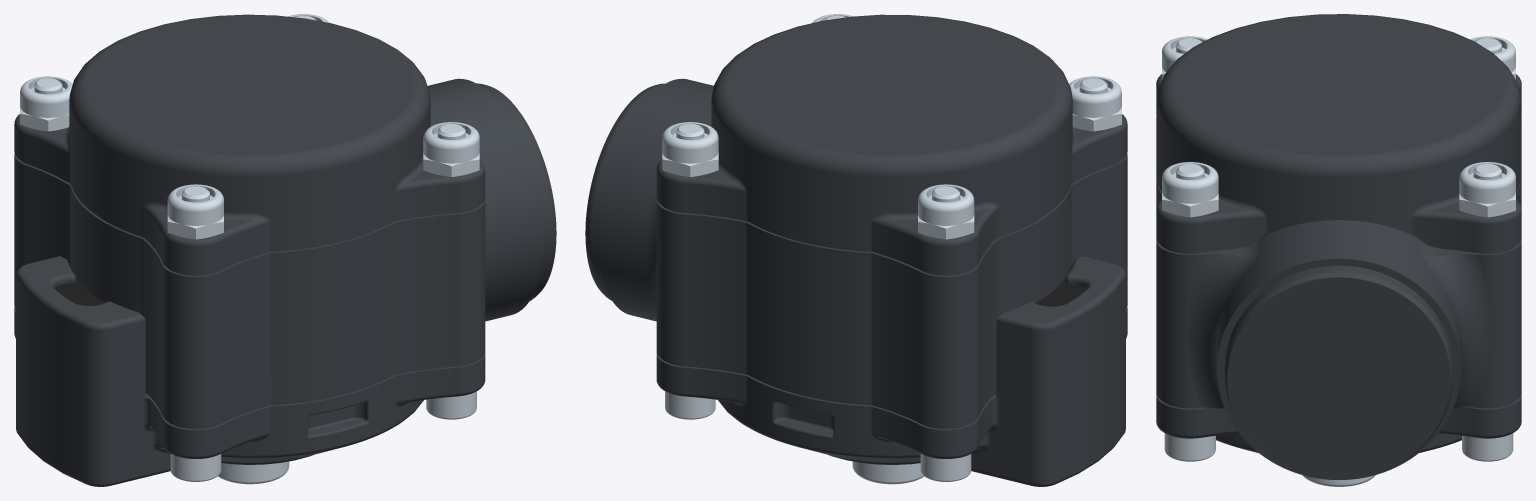
3 renders of one model, left to right at view 1: azimuth 30°, elevation 25°; view 2: azimuth 150°, elevation 25°; view 3: azimuth 270°, elevation 25°, orthographic.
Visible parts, largest first — view 1: ID2; view 2: ID2; view 3: ID2.
Part boxes in pixels (x1,y1,x2,y2): ID2: (14,14,556,486); ID2: (585,14,1127,486); ID2: (1156,14,1521,486).
Size of the model in its own units: 0.0469 by 0.0322 by 0.0375.
